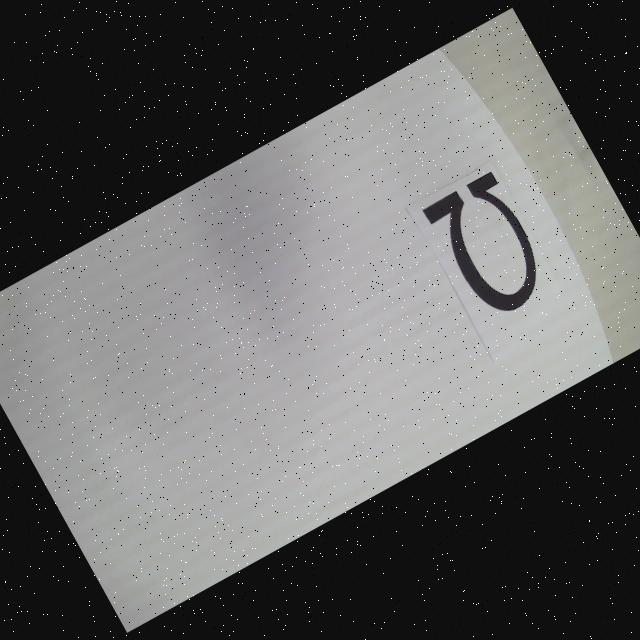OMEGA: (422, 170, 557, 326)
